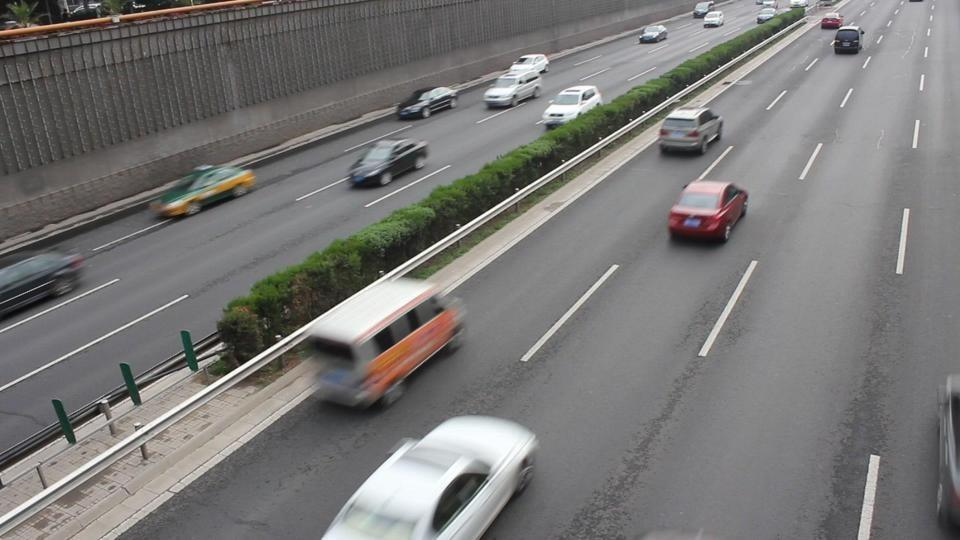car: (320, 414, 541, 539), (147, 163, 257, 219), (666, 178, 750, 244), (0, 252, 85, 316), (347, 136, 430, 188), (937, 374, 960, 529), (657, 104, 724, 156), (540, 85, 603, 130), (483, 72, 542, 109), (397, 86, 458, 120), (510, 53, 549, 79), (832, 27, 864, 53), (639, 25, 667, 44), (704, 10, 725, 28), (820, 14, 843, 30)
